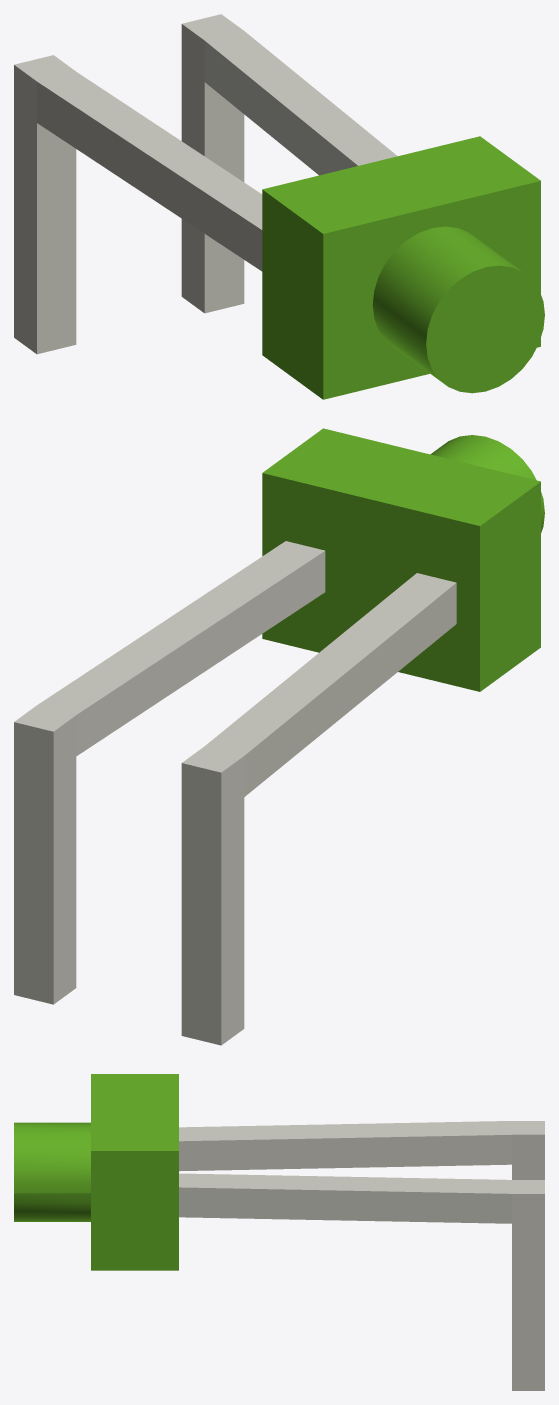
Rendered from kc-led_d1.8mm_w1.8mm_h2.4mm_horizontal_o6.35mm_z1.6mm.glb.
3 views of the same model, one above another, from view 1: azimuth 30°, elevation 25°; view 2: azimuth 150°, elevation 25°; view 3: azimuth 270°, elevation 25° (orthographic). The views are drawn at different scales.
Parts seen in each view (by area): view 1: 0.16666666666666666_0.4166666666666667_0_0, 0.6666666666666666_0.6666666666666666_0.5833333333333334_0.8; view 2: 0.6666666666666666_0.6666666666666666_0.5833333333333334_0.8, 0.16666666666666666_0.4166666666666667_0_0; view 3: 0.6666666666666666_0.6666666666666666_0.5833333333333334_0.8, 0.16666666666666666_0.4166666666666667_0_0.
Boxes of the visible parts, box(x1,y1,x2,y2) form: 0.16666666666666666_0.4166666666666667_0_0: box(262, 136, 544, 399); 0.6666666666666666_0.6666666666666666_0.5833333333333334_0.8: box(14, 14, 397, 354); 0.6666666666666666_0.6666666666666666_0.5833333333333334_0.8: box(14, 541, 456, 1045); 0.16666666666666666_0.4166666666666667_0_0: box(262, 428, 544, 691); 0.6666666666666666_0.6666666666666666_0.5833333333333334_0.8: box(179, 1121, 544, 1390); 0.16666666666666666_0.4166666666666667_0_0: box(14, 1074, 178, 1270).
Size of the model in its own units: 0.33 by 0.485 by 0.965.
